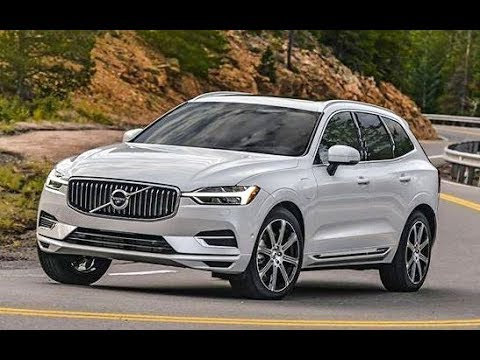pickup: (36, 89, 439, 301)
